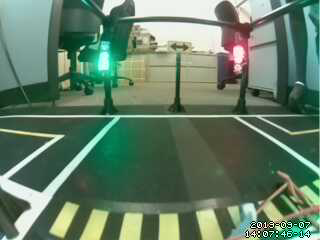Left_Right_sign: (165, 38, 193, 54)
Traffic_light_green: (100, 41, 108, 72)
Traffic_light_red: (234, 45, 245, 74)
